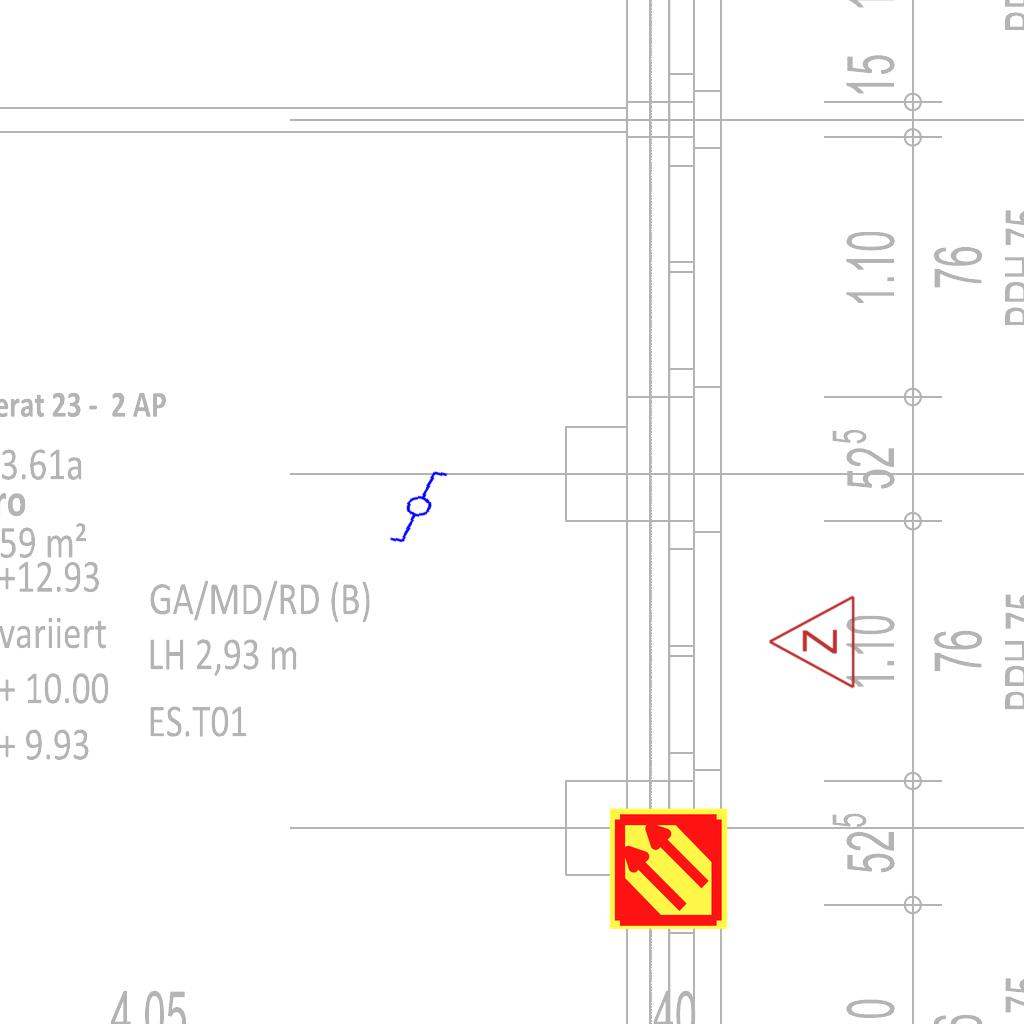ASR_Ansaugrauchmelder: (606, 806, 731, 931)
Wechselschalter: (379, 466, 467, 548)
Zimmersignalleuchte: (762, 594, 862, 692)
